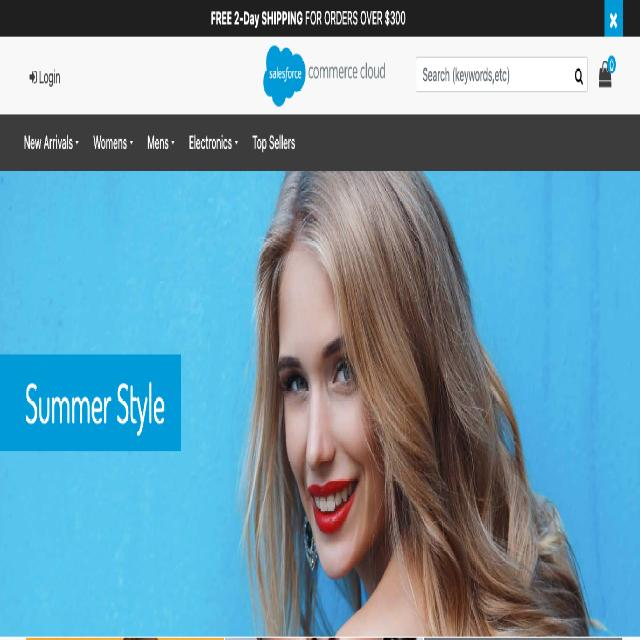HeroFullWidthBanner: (0, 169, 639, 636)
